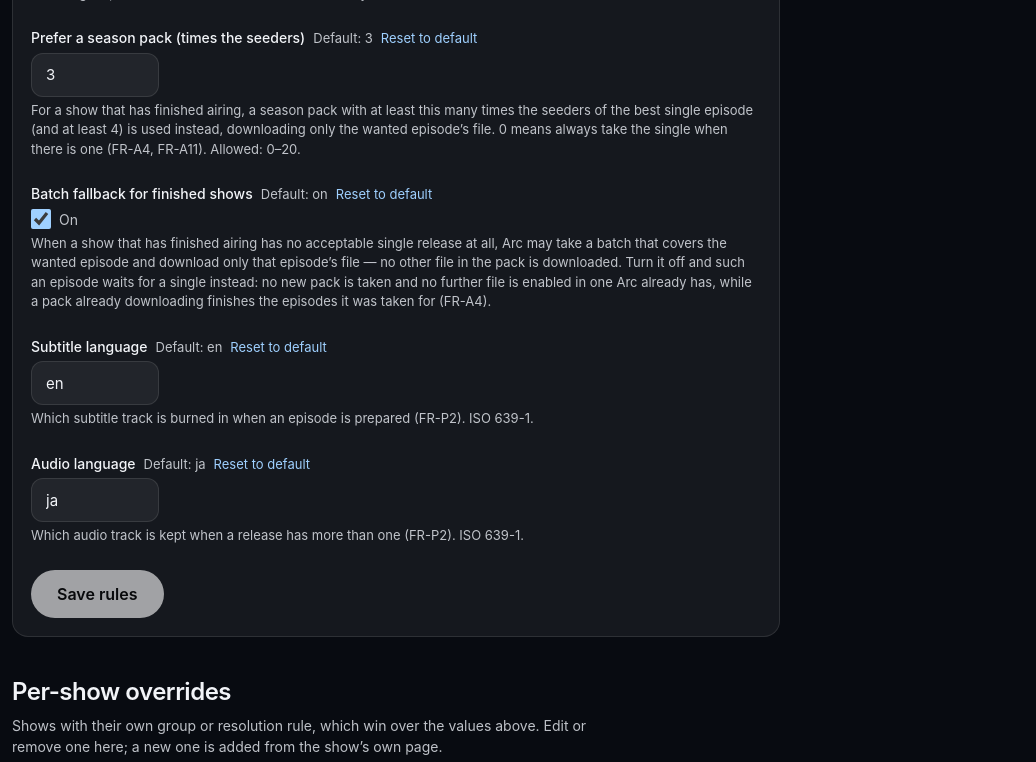
Test: Admin — Rules (FR-D2, FR-T5) › renders a 422 under the field the server named
(page scrolled)
Replace the text in the field labelled "Subtitle language" with "xqz": (95, 383) [31, 361, 159, 405]
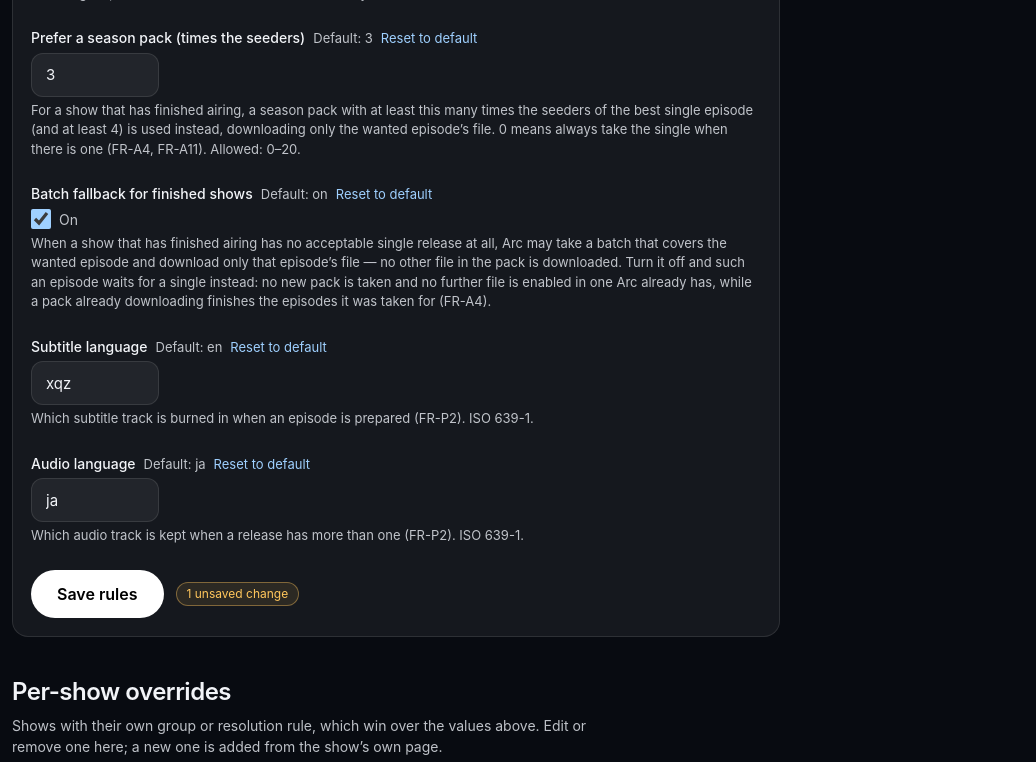
Click the button "Save rules": (97, 594) [31, 570, 164, 618]
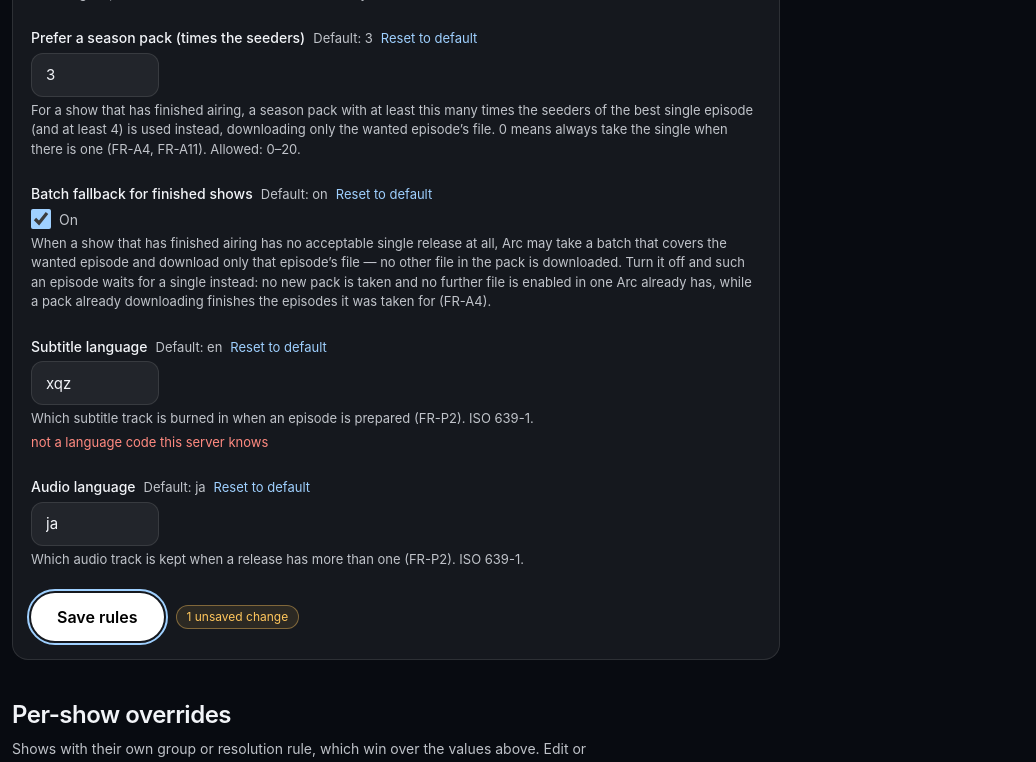
Result: the message reads "not a language code this server knows" at [31, 434, 268, 450]
Result: the number of messages is 1 at [31, 434, 268, 450]
